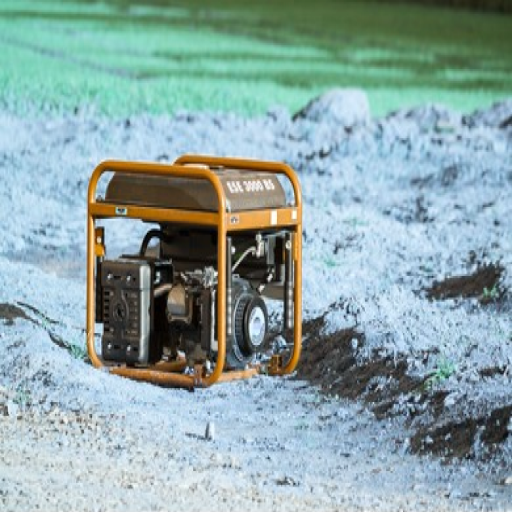portable_generator: (87, 153, 304, 387)
